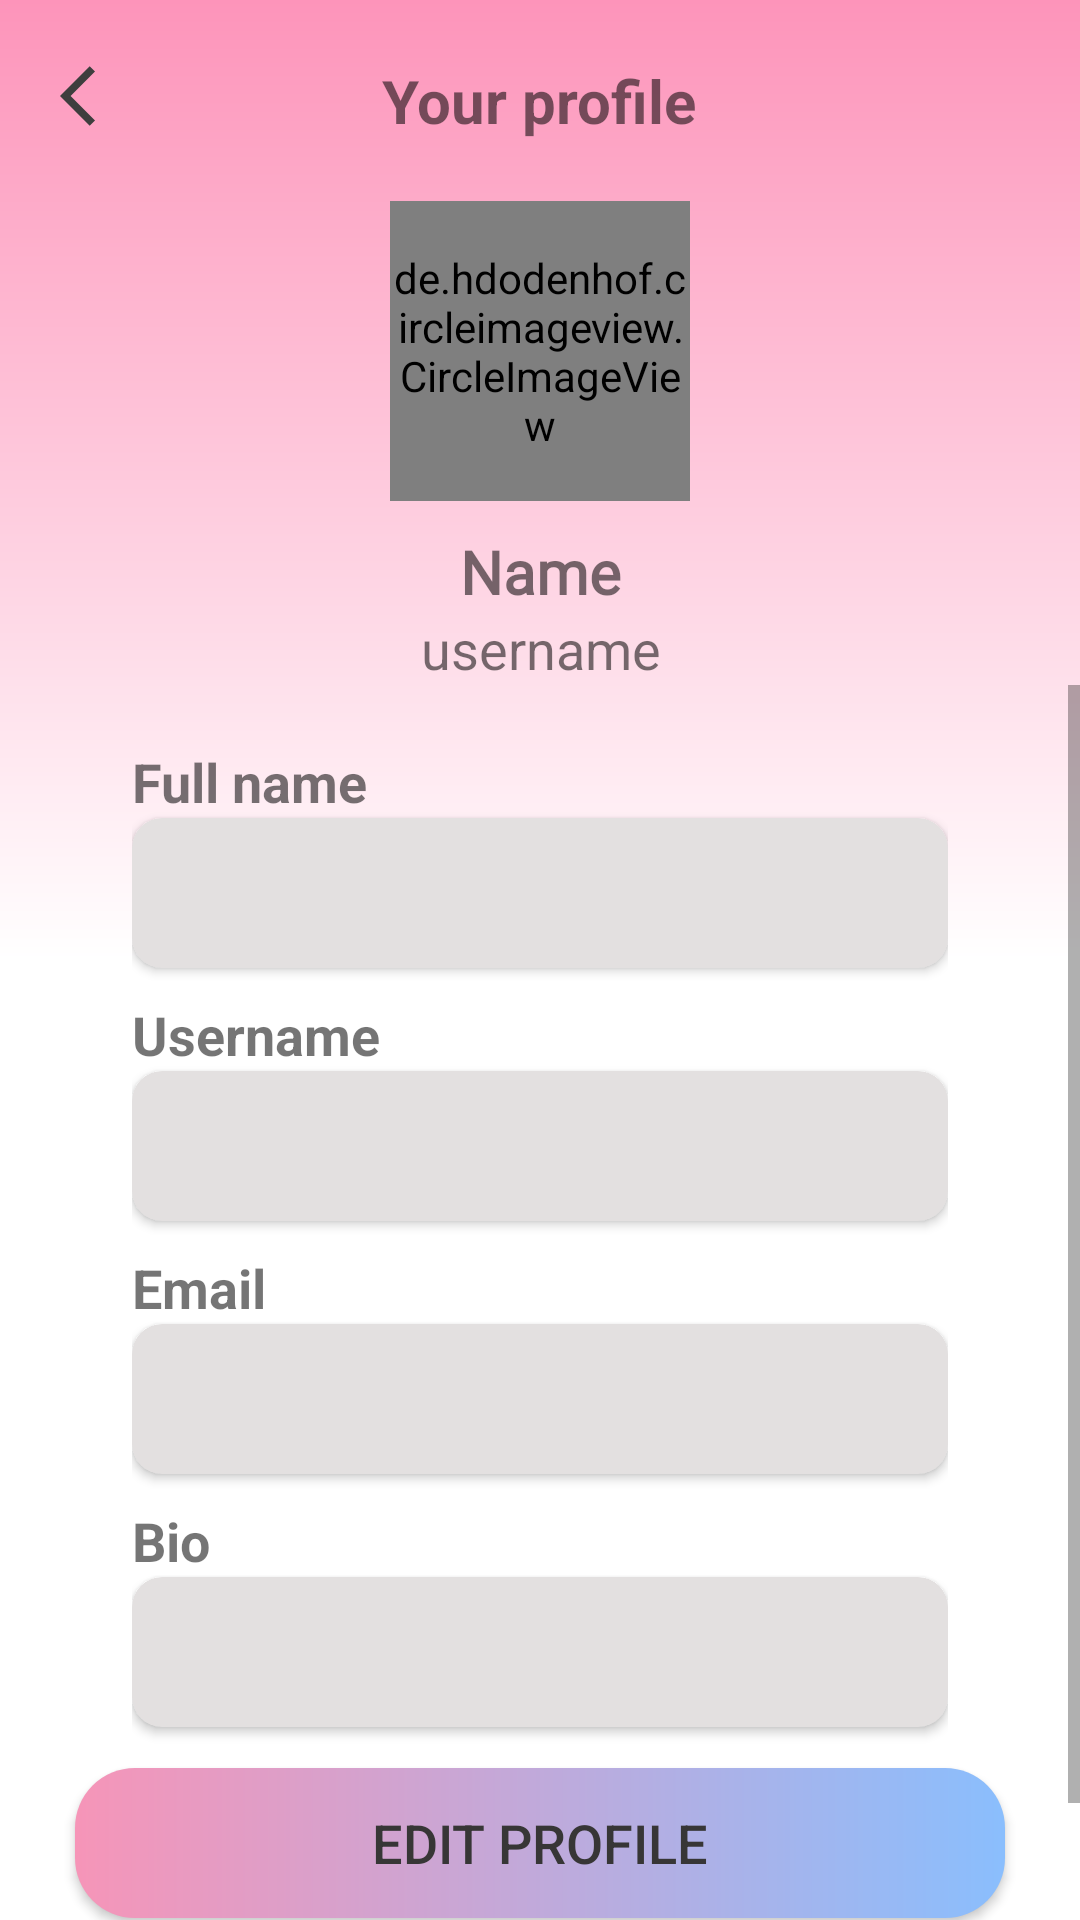

Where icons sit on this 1080w x 1920h app screen, as box=[x1, y1, x2, y2]:
arrow back: box=[60, 66, 95, 126]
